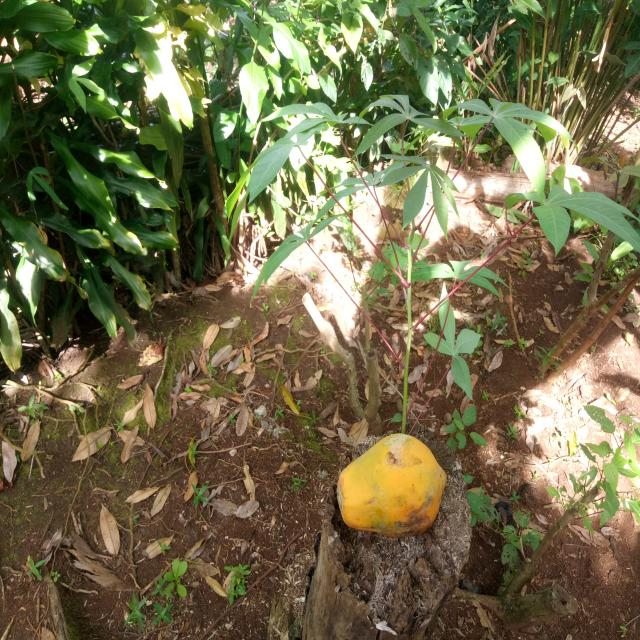Pepaya rippen: (331, 431, 454, 564)
